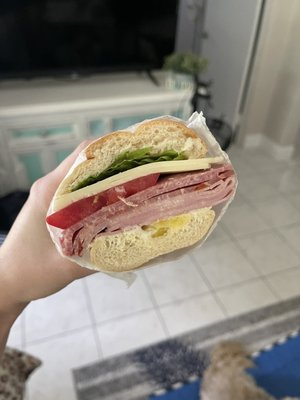soup: (45, 113, 238, 273)
